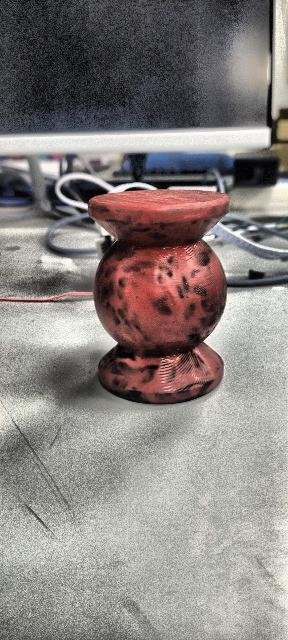red: (88, 188, 231, 404)
